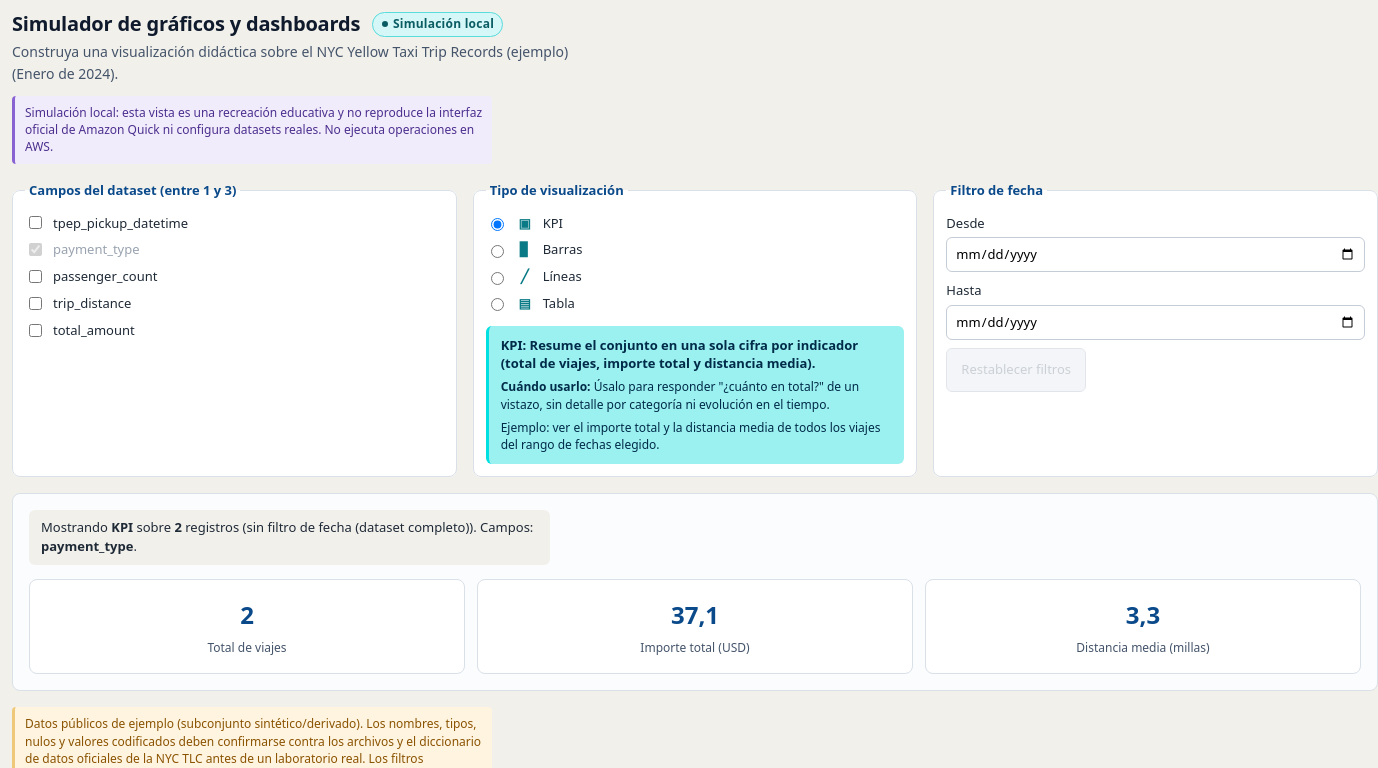
Test case: SimuladorDashboards › restablece el filtro al estado sin filtros al pulsar el botón (R12.3)
The width and height of the screenshot is (1378, 768).
Expected: the button "Restablecer filtros" is disabled, [946, 348, 1086, 392]
// Aplicar un filtro de fecha que deja el conjunto vacío.
Type "2020-01-01" into the date field named "filtro-desde" at (1156, 255), box [946, 237, 1365, 272]
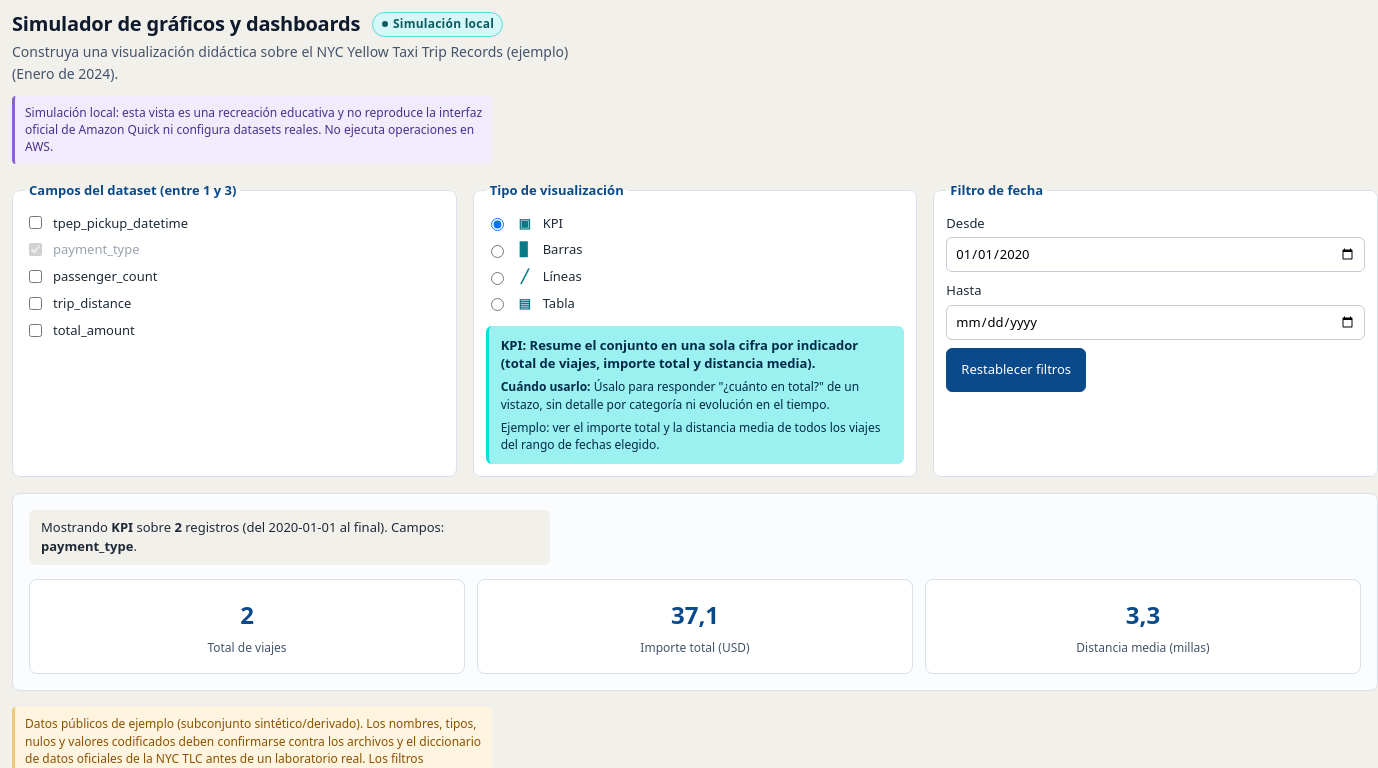
Type "2020-01-02" into the date field named "filtro-hasta" at (1156, 322), box [946, 305, 1365, 340]
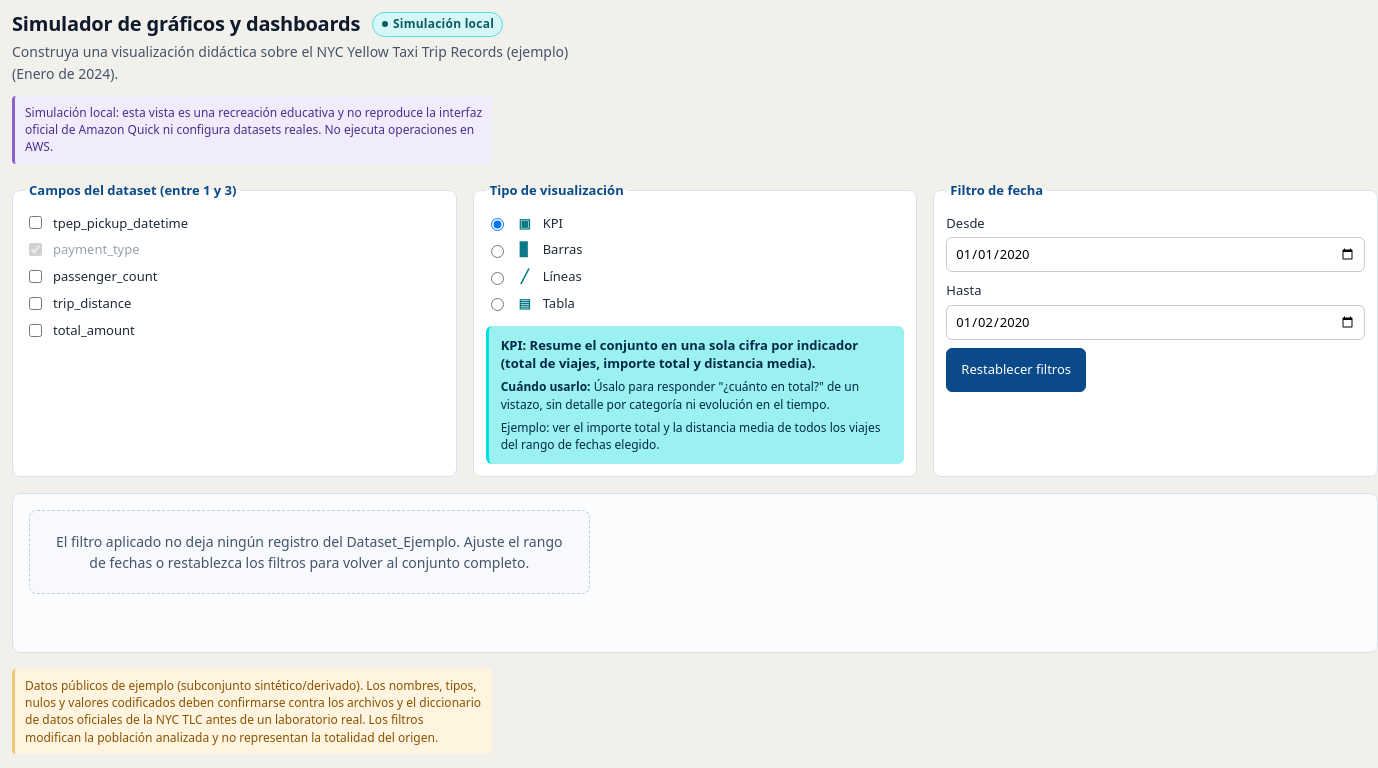
Result: the button "Restablecer filtros" is enabled
Result: the message with class "simulador__vacio" is shown at [29, 510, 590, 594]
// Restablecer filtros: vuelve al Dataset_Ejemplo completo.
Click the button "Restablecer filtros" at (1016, 370), box [946, 348, 1086, 392]
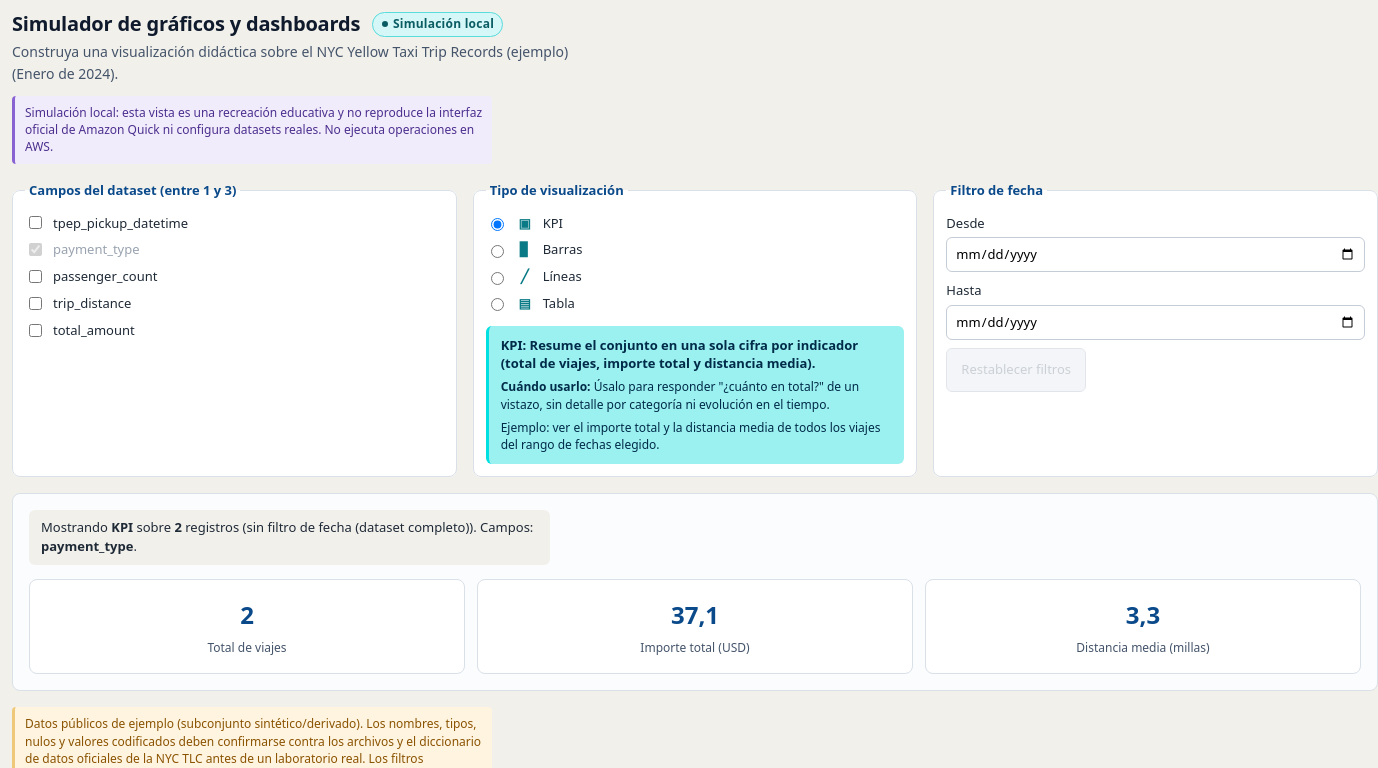
Result: the button "Restablecer filtros" is disabled at [946, 348, 1086, 392]
Result: the date field named "filtro-desde" is empty at [946, 237, 1365, 272]
Result: the date field named "filtro-hasta" is empty at [946, 305, 1365, 340]
